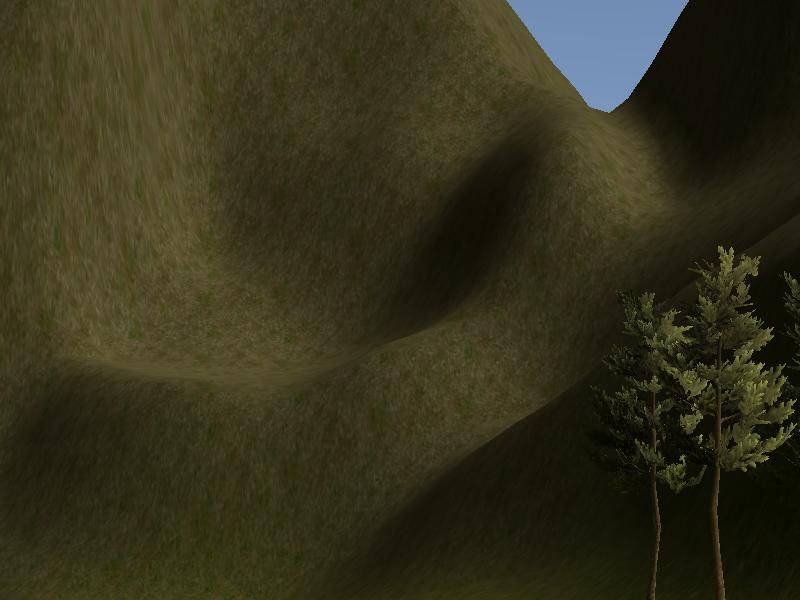background: (3, 1, 800, 599)
